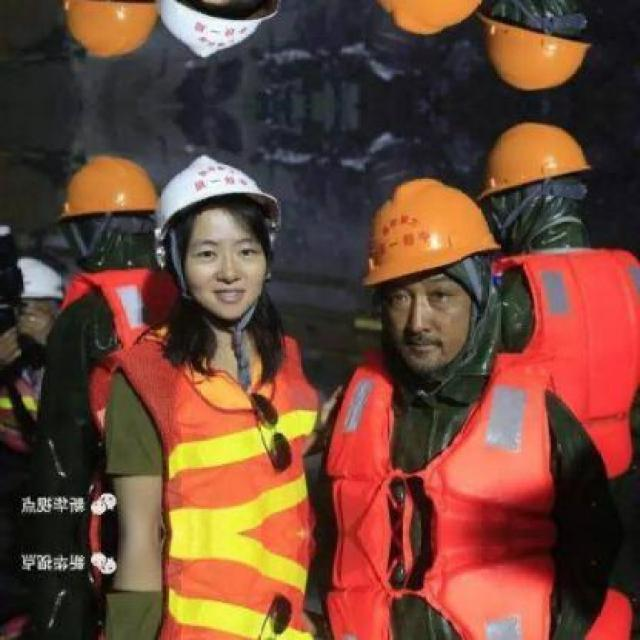reflective_jacket: (329, 345, 583, 538), (486, 234, 638, 511), (130, 320, 323, 536), (30, 257, 172, 485)
safety_helmet: (344, 169, 510, 299), (151, 149, 291, 242), (465, 5, 600, 97), (470, 115, 598, 203), (43, 147, 161, 234), (152, 0, 283, 67)
